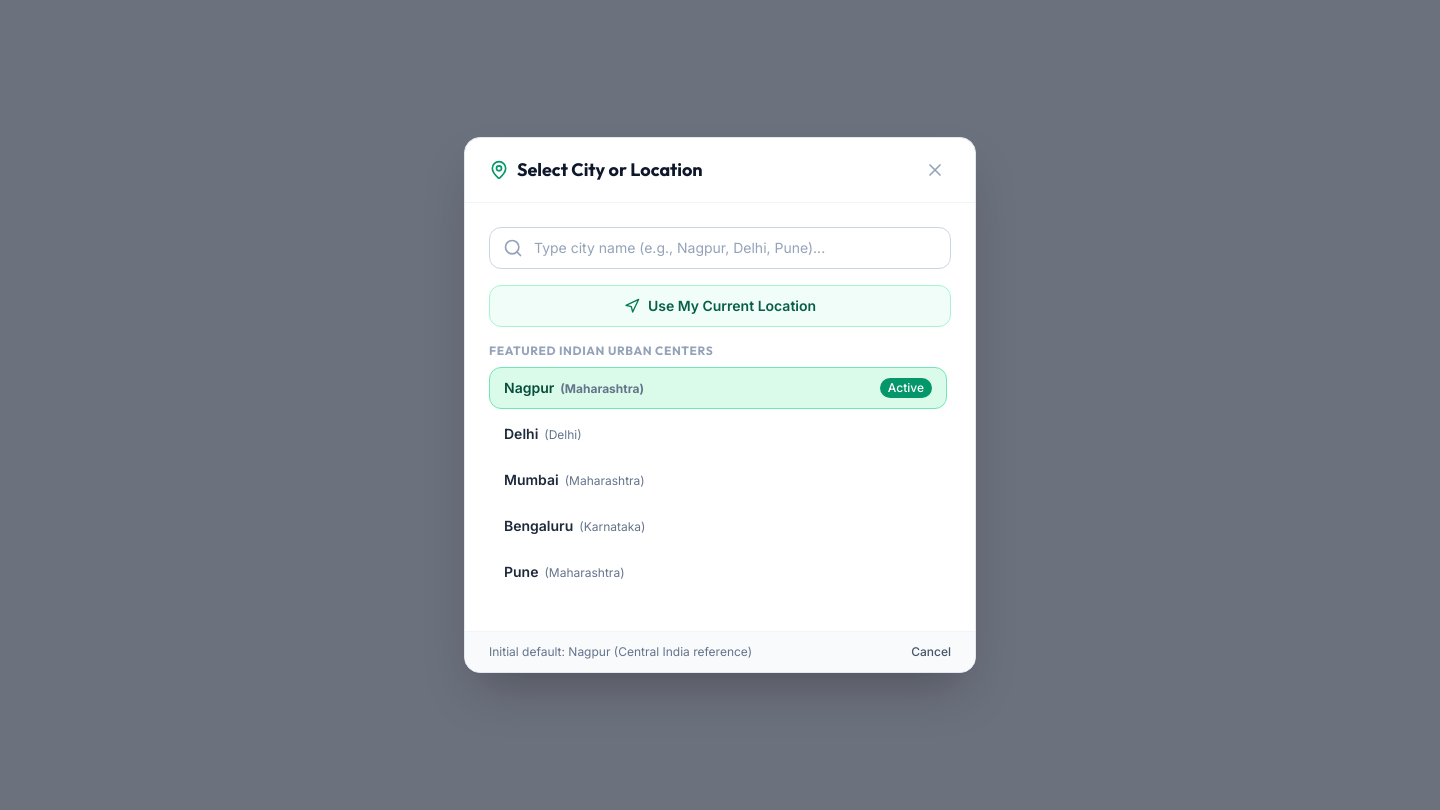
it: CitySearchModal › ignores an older search response after a newer query is submitted
In the field named "Search city by name": (720, 248) left=489, top=227, right=951, bottom=269, type "Pune"
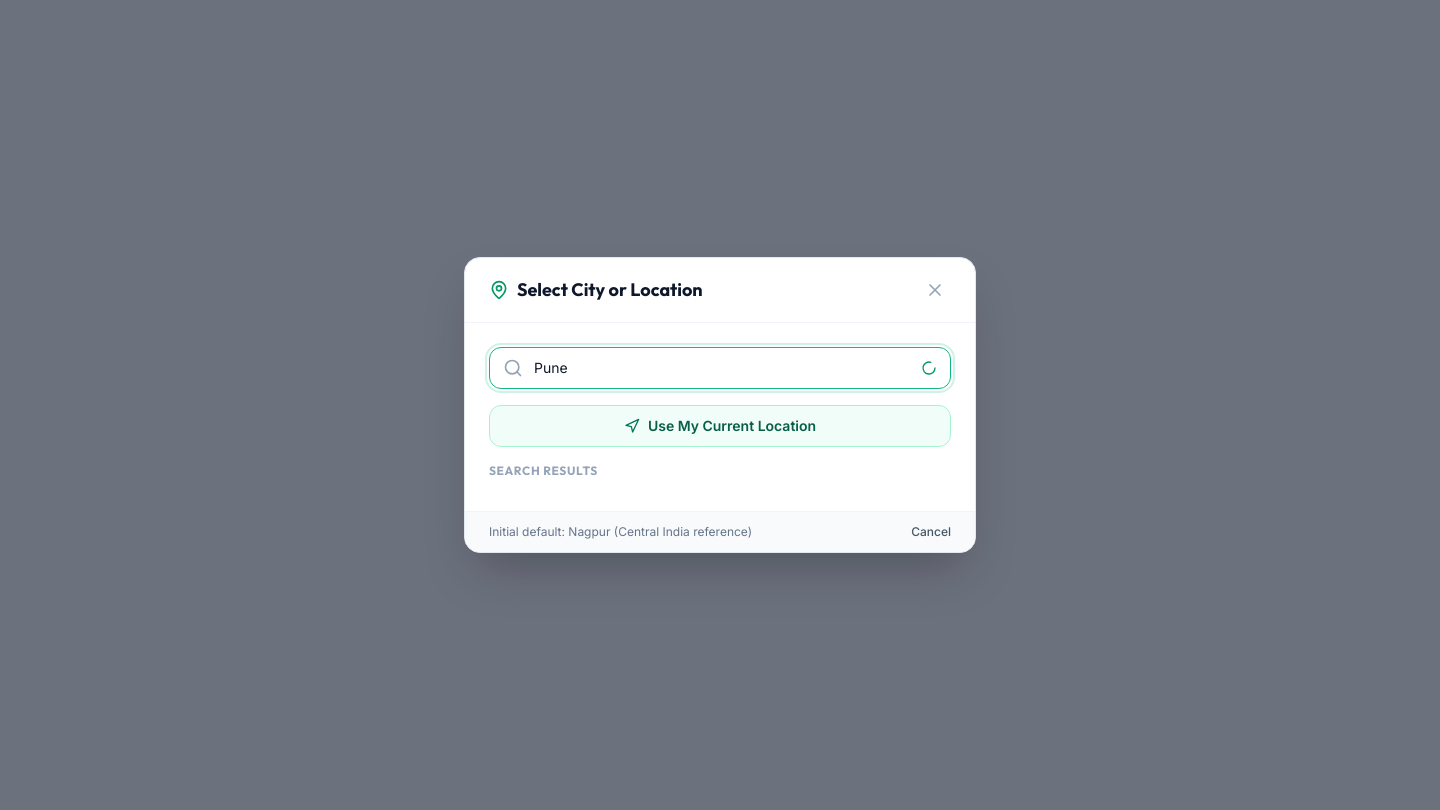
Replace the text in the field named "Search city by name" with "Delhi": (720, 368) left=489, top=347, right=951, bottom=389
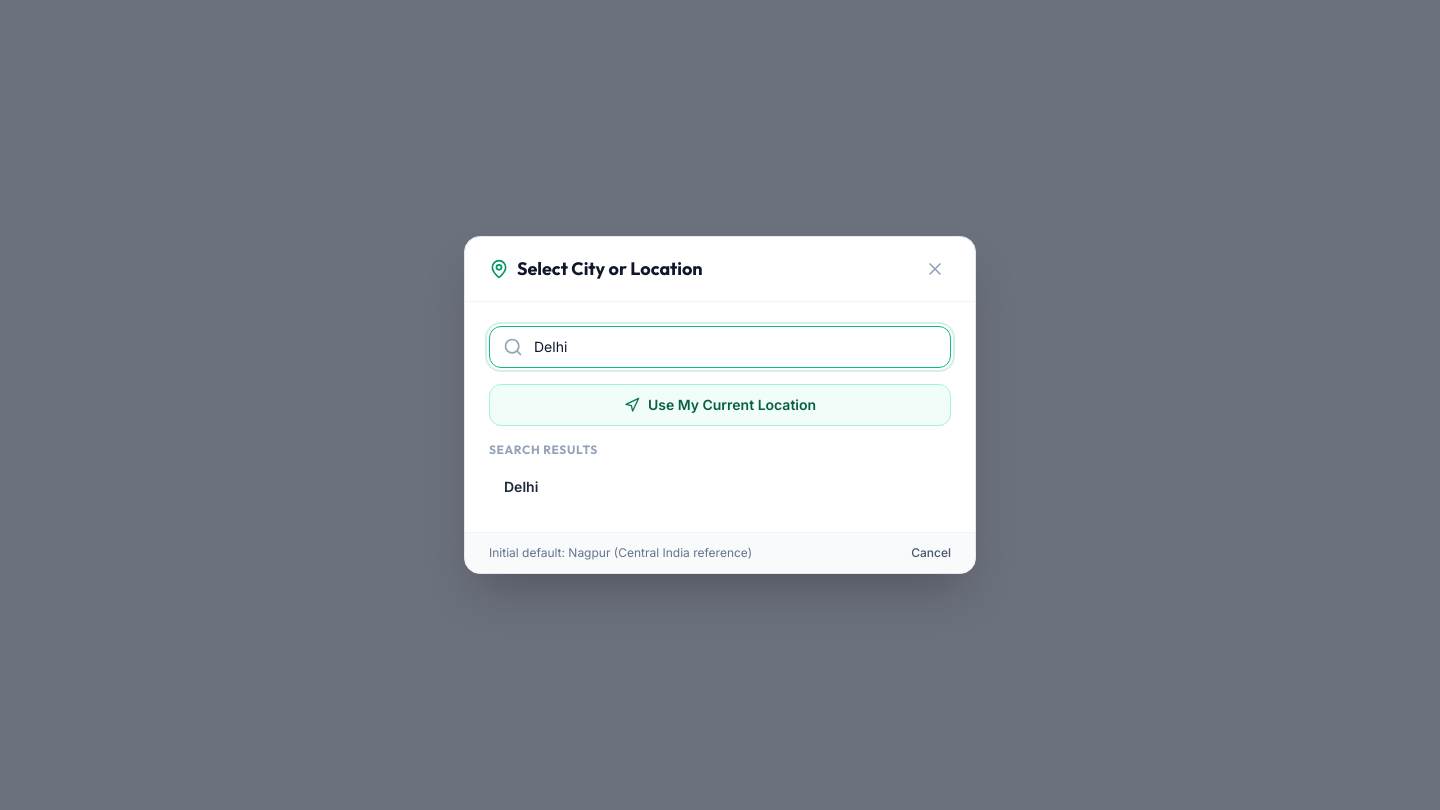
expect the button "Pune" is not shown: met
expect the button "Delhi" is shown: met, box left=489, top=466, right=947, bottom=508
